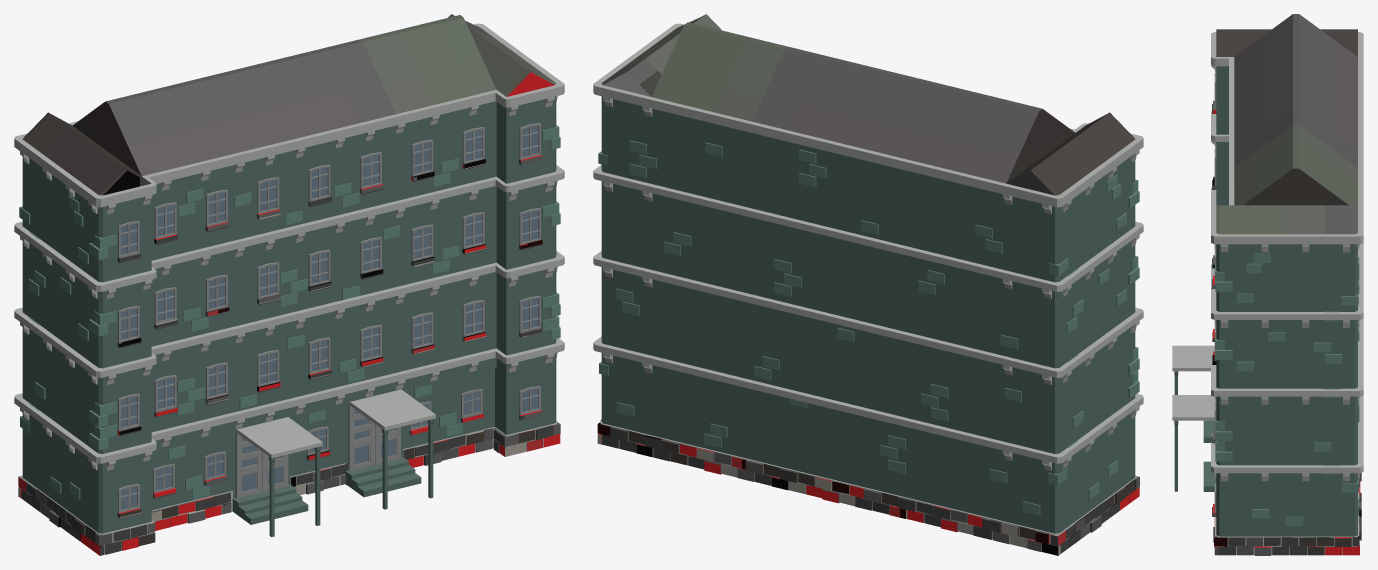
File: quaternius-ultimate-textured-building-4-story-wide-2-doors-roof-mat.glb
The picture shows the model from 3 angles, left to right: view 1: azimuth 30°, elevation 25°; view 2: azimuth 150°, elevation 25°; view 3: azimuth 270°, elevation 25°; orthographic projection. The views are drawn at different scales.
Visible parts, largest first — view 1: 4Story_Wide_2Doors_Roof_Mat; view 2: 4Story_Wide_2Doors_Roof_Mat; view 3: 4Story_Wide_2Doors_Roof_Mat.
Boxes of the visible parts, box(x1,y1,x2,y2) form: 4Story_Wide_2Doors_Roof_Mat: box(14, 14, 564, 555); 4Story_Wide_2Doors_Roof_Mat: box(593, 14, 1143, 555); 4Story_Wide_2Doors_Roof_Mat: box(1172, 14, 1363, 555).
Bounding box in the file's own units: 6.83 × 5.68 × 2.7.
2 materials, 2 textured.
